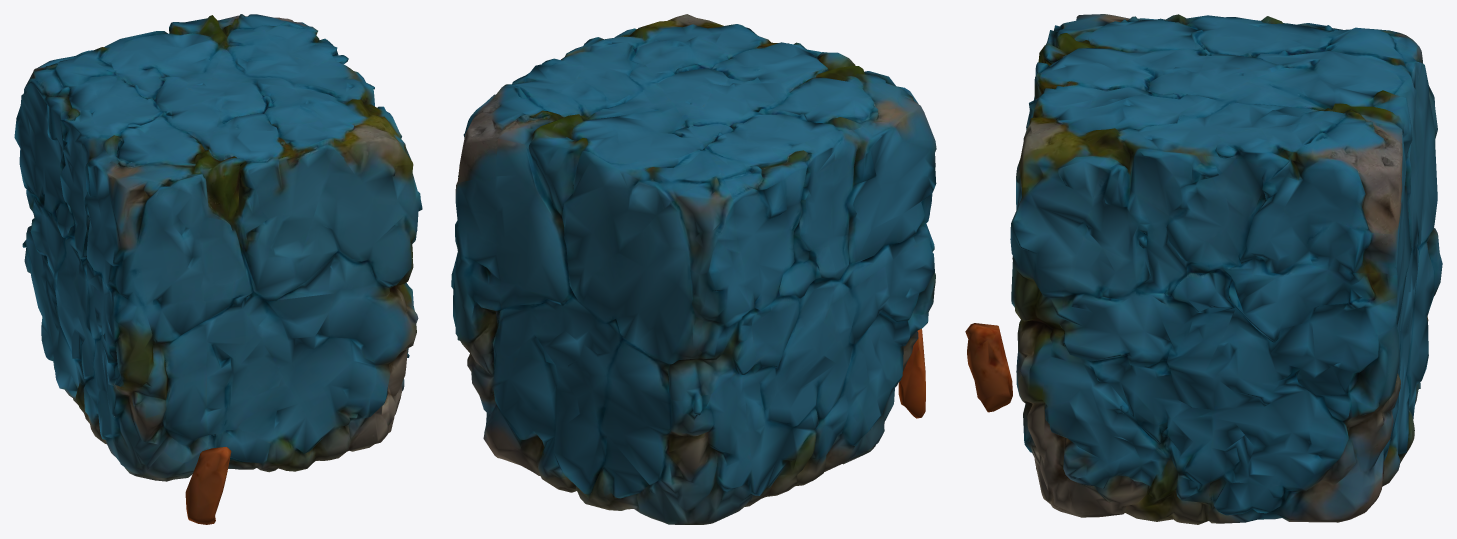
File: cube_blue.glb
3 views of the same model, side by side, from view 1: azimuth 30°, elevation 25°; view 2: azimuth 150°, elevation 25°; view 3: azimuth 270°, elevation 25° (orthographic). The views are drawn at different scales.
Parts seen in each view (by area): view 1: tripo_node_a0d64e5d; view 2: tripo_node_a0d64e5d; view 3: tripo_node_a0d64e5d.
Boxes of the visible parts, box(x1,y1,x2,y2) form: tripo_node_a0d64e5d: box(14, 14, 422, 524); tripo_node_a0d64e5d: box(451, 14, 936, 524); tripo_node_a0d64e5d: box(965, 14, 1442, 524).
Bounding box in the file's own units: 0.8714 × 0.9108 × 0.979.
1 material, 1 textured.
